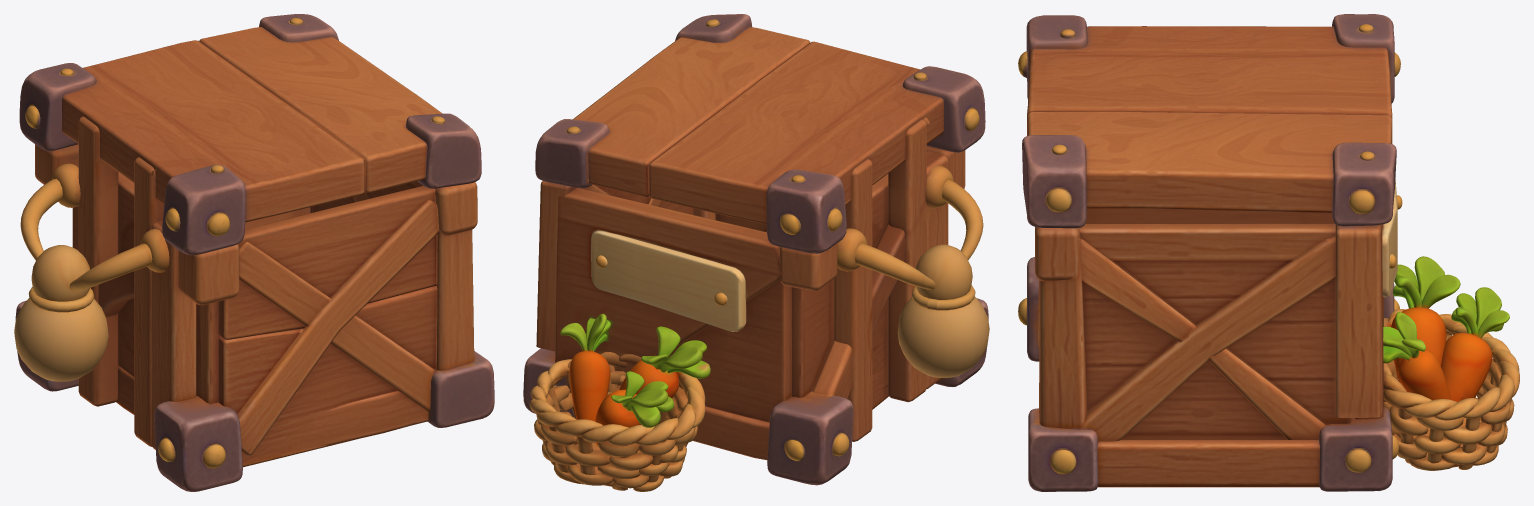
File: C11_shipbox.fbx
3 views of the same model, side by side, from view 1: azimuth 30°, elevation 25°; view 2: azimuth 150°, elevation 25°; view 3: azimuth 270°, elevation 25° (orthographic). The views are drawn at different scales.
Visible parts, largest first — view 1: tripo_node_dfa1fc53; view 2: tripo_node_dfa1fc53; view 3: tripo_node_dfa1fc53.
Boxes of the visible parts, left/top/right/bottom form: tripo_node_dfa1fc53: left=14, top=14, right=494, bottom=491; tripo_node_dfa1fc53: left=523, top=14, right=989, bottom=491; tripo_node_dfa1fc53: left=1018, top=14, right=1519, bottom=491.
Bounding box in the file's own units: 0.9868 × 0.7456 × 0.9995.
